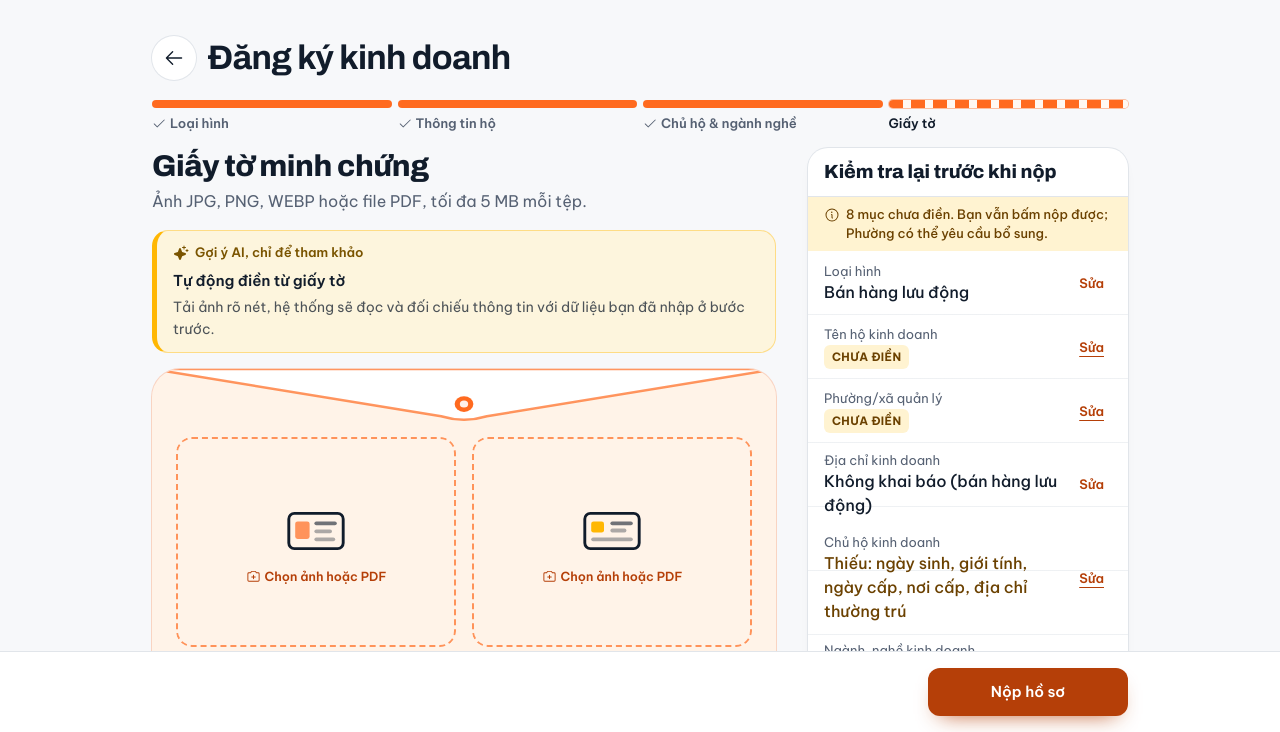
Test: step 4 — documents and filing › sends the user back when steps 1-2 are incomplete
Click the button "Nộp hồ sơ".
click(1028, 692)  # box [928,668,1128,716]
(page scrolled)
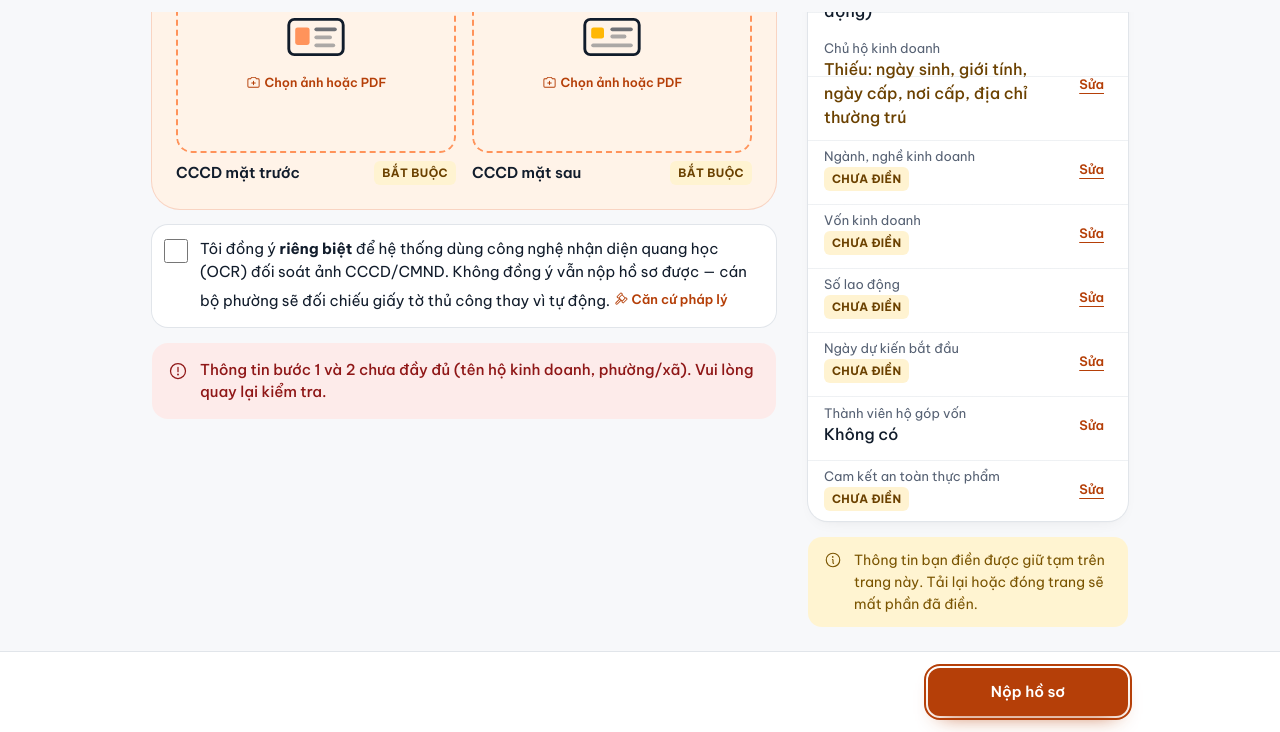
Expected: the message shows "Thông tin bước 1 và 2 chưa đầy đủ", [200,360,754,401]
